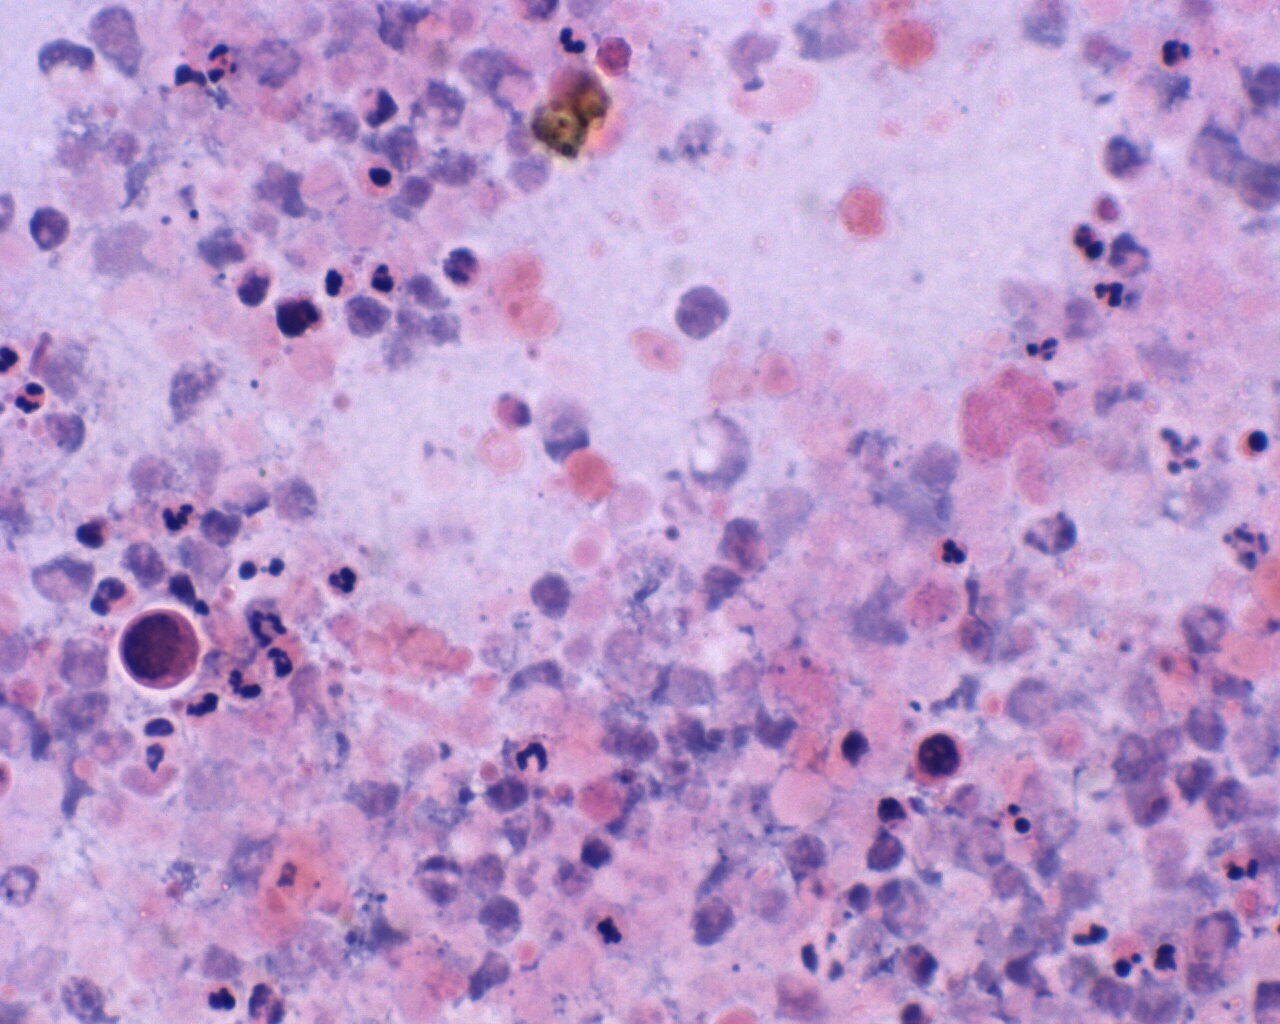ab: (117, 609, 206, 696)
neutro: (928, 530, 976, 573), (515, 730, 551, 777), (320, 558, 363, 597), (1089, 276, 1133, 312)
